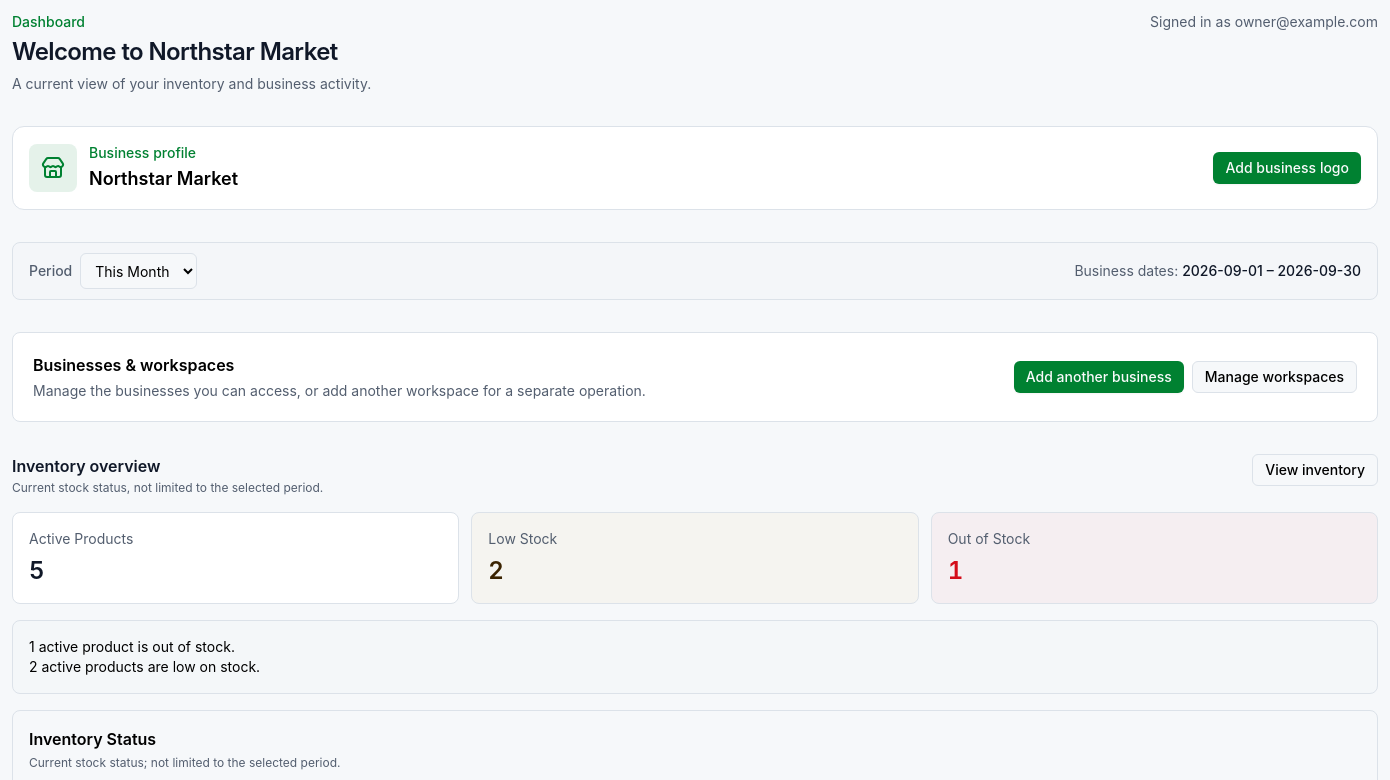
Test: module-aware dashboard overview › validates the shared custom date range at 366 days
Select "Custom" in the dropdown labelled "Period": x=139, y=271 top-left (80, 253), bottom-right (197, 289)
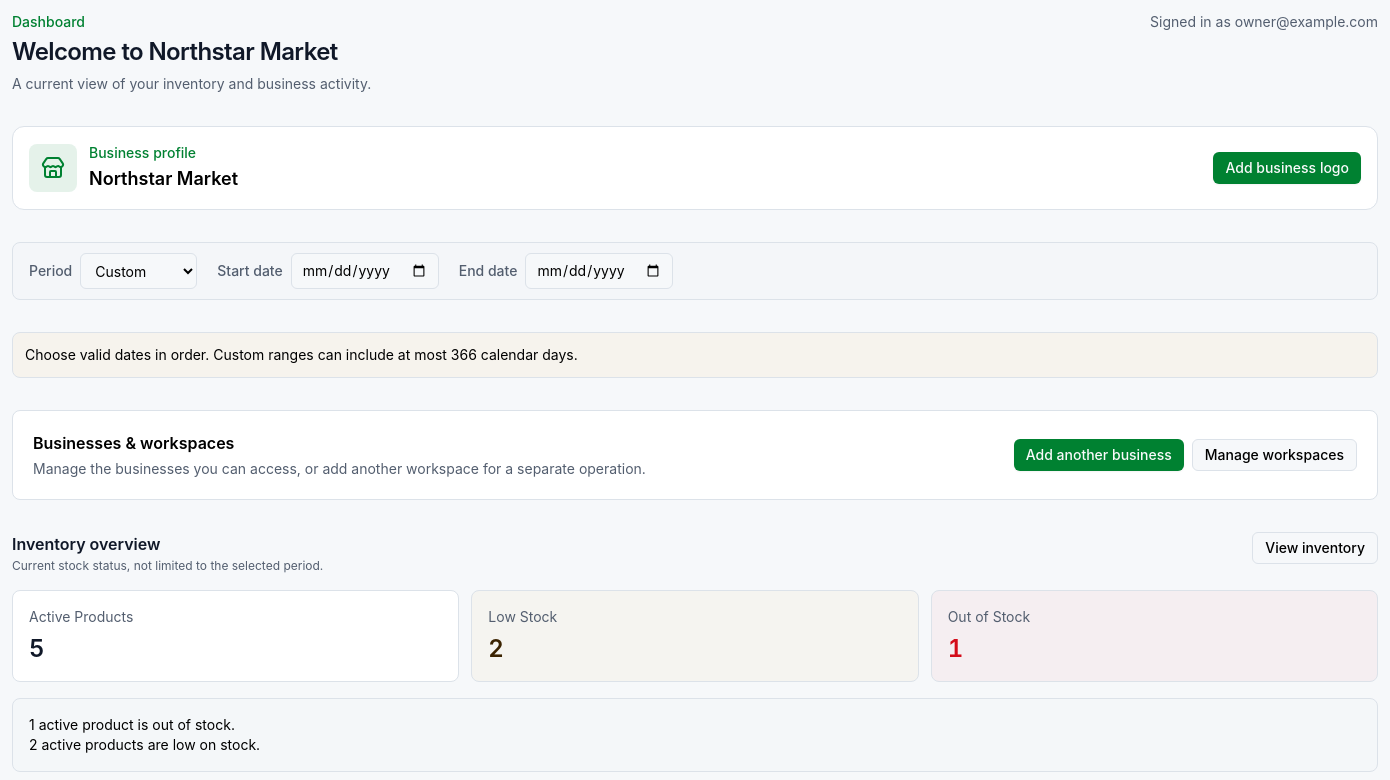
In the date field labelled "Start date": x=365, y=271 top-left (291, 253), bottom-right (439, 289), type "2025-01-01"
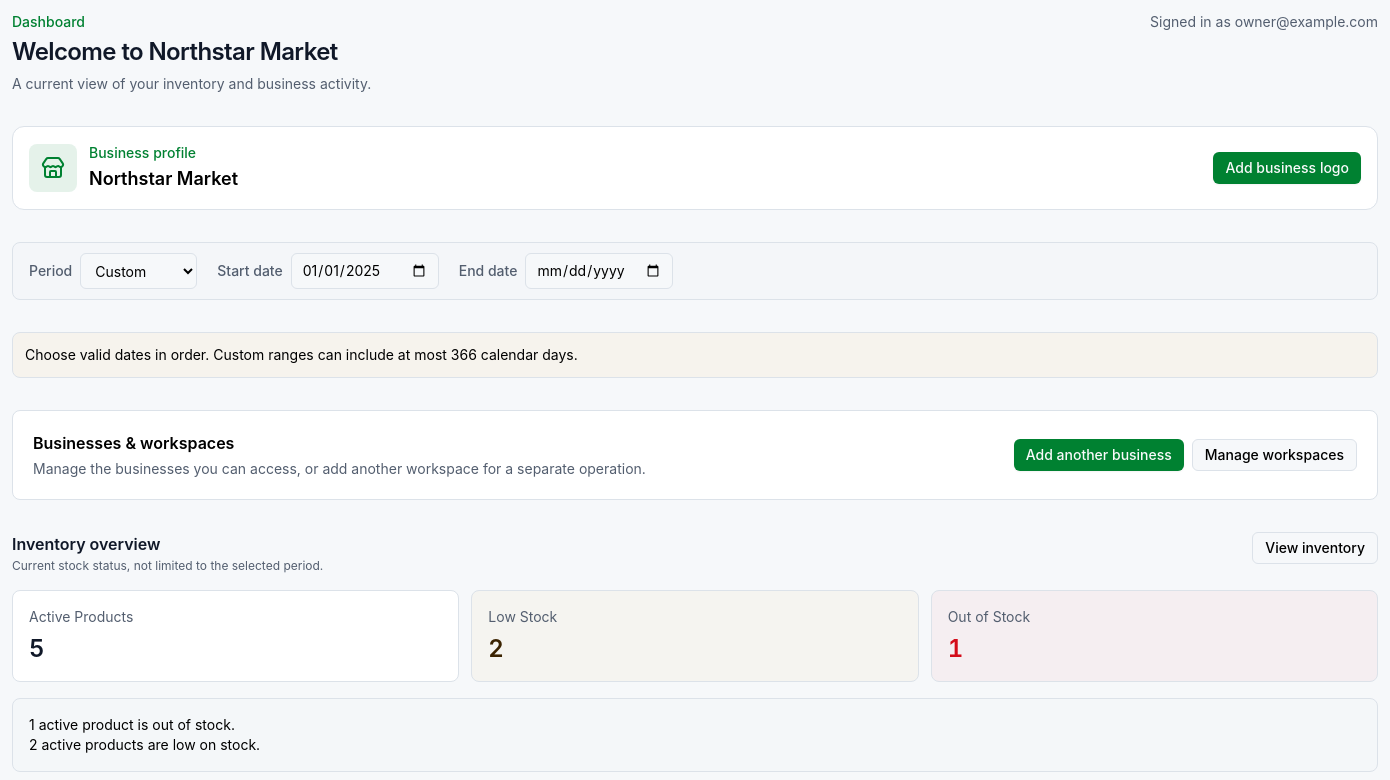
In the date field labelled "End date": x=599, y=271 top-left (525, 253), bottom-right (673, 289), type "2026-01-02"
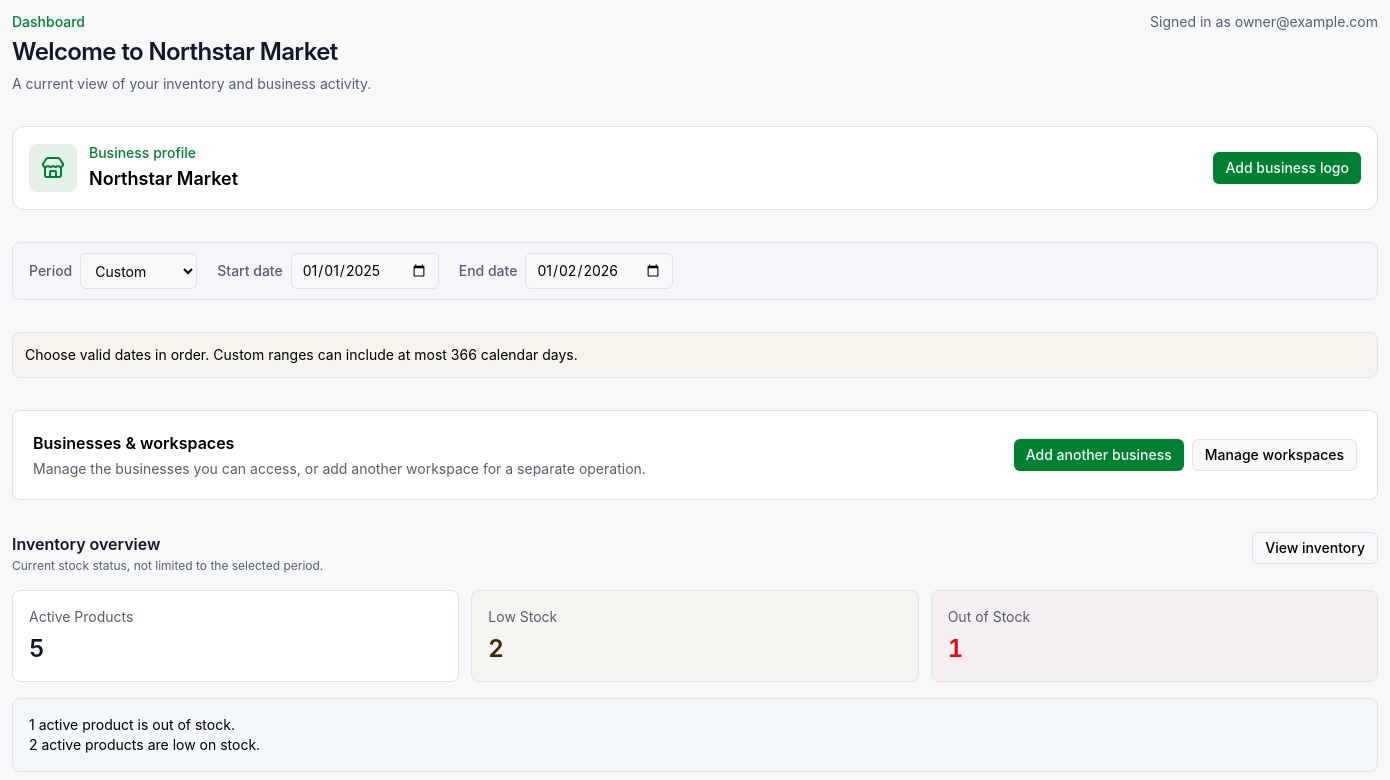
Check: the text "at most 366 calendar days" is shown, box top-left (25, 346), bottom-right (578, 363)
In the date field labelled "End date": x=599, y=271 top-left (525, 253), bottom-right (673, 289), type "2026-01-01"
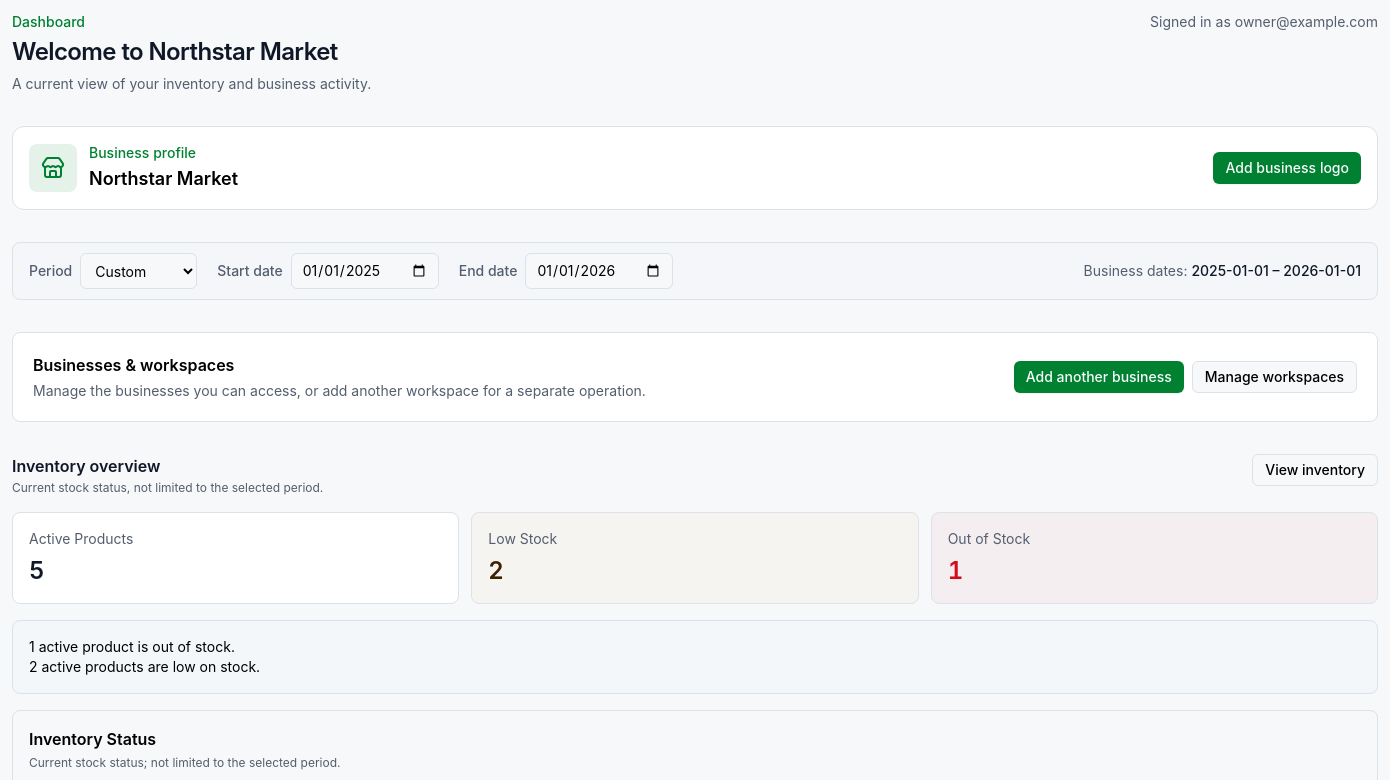
Check: the text "at most 366 calendar days" is gone
